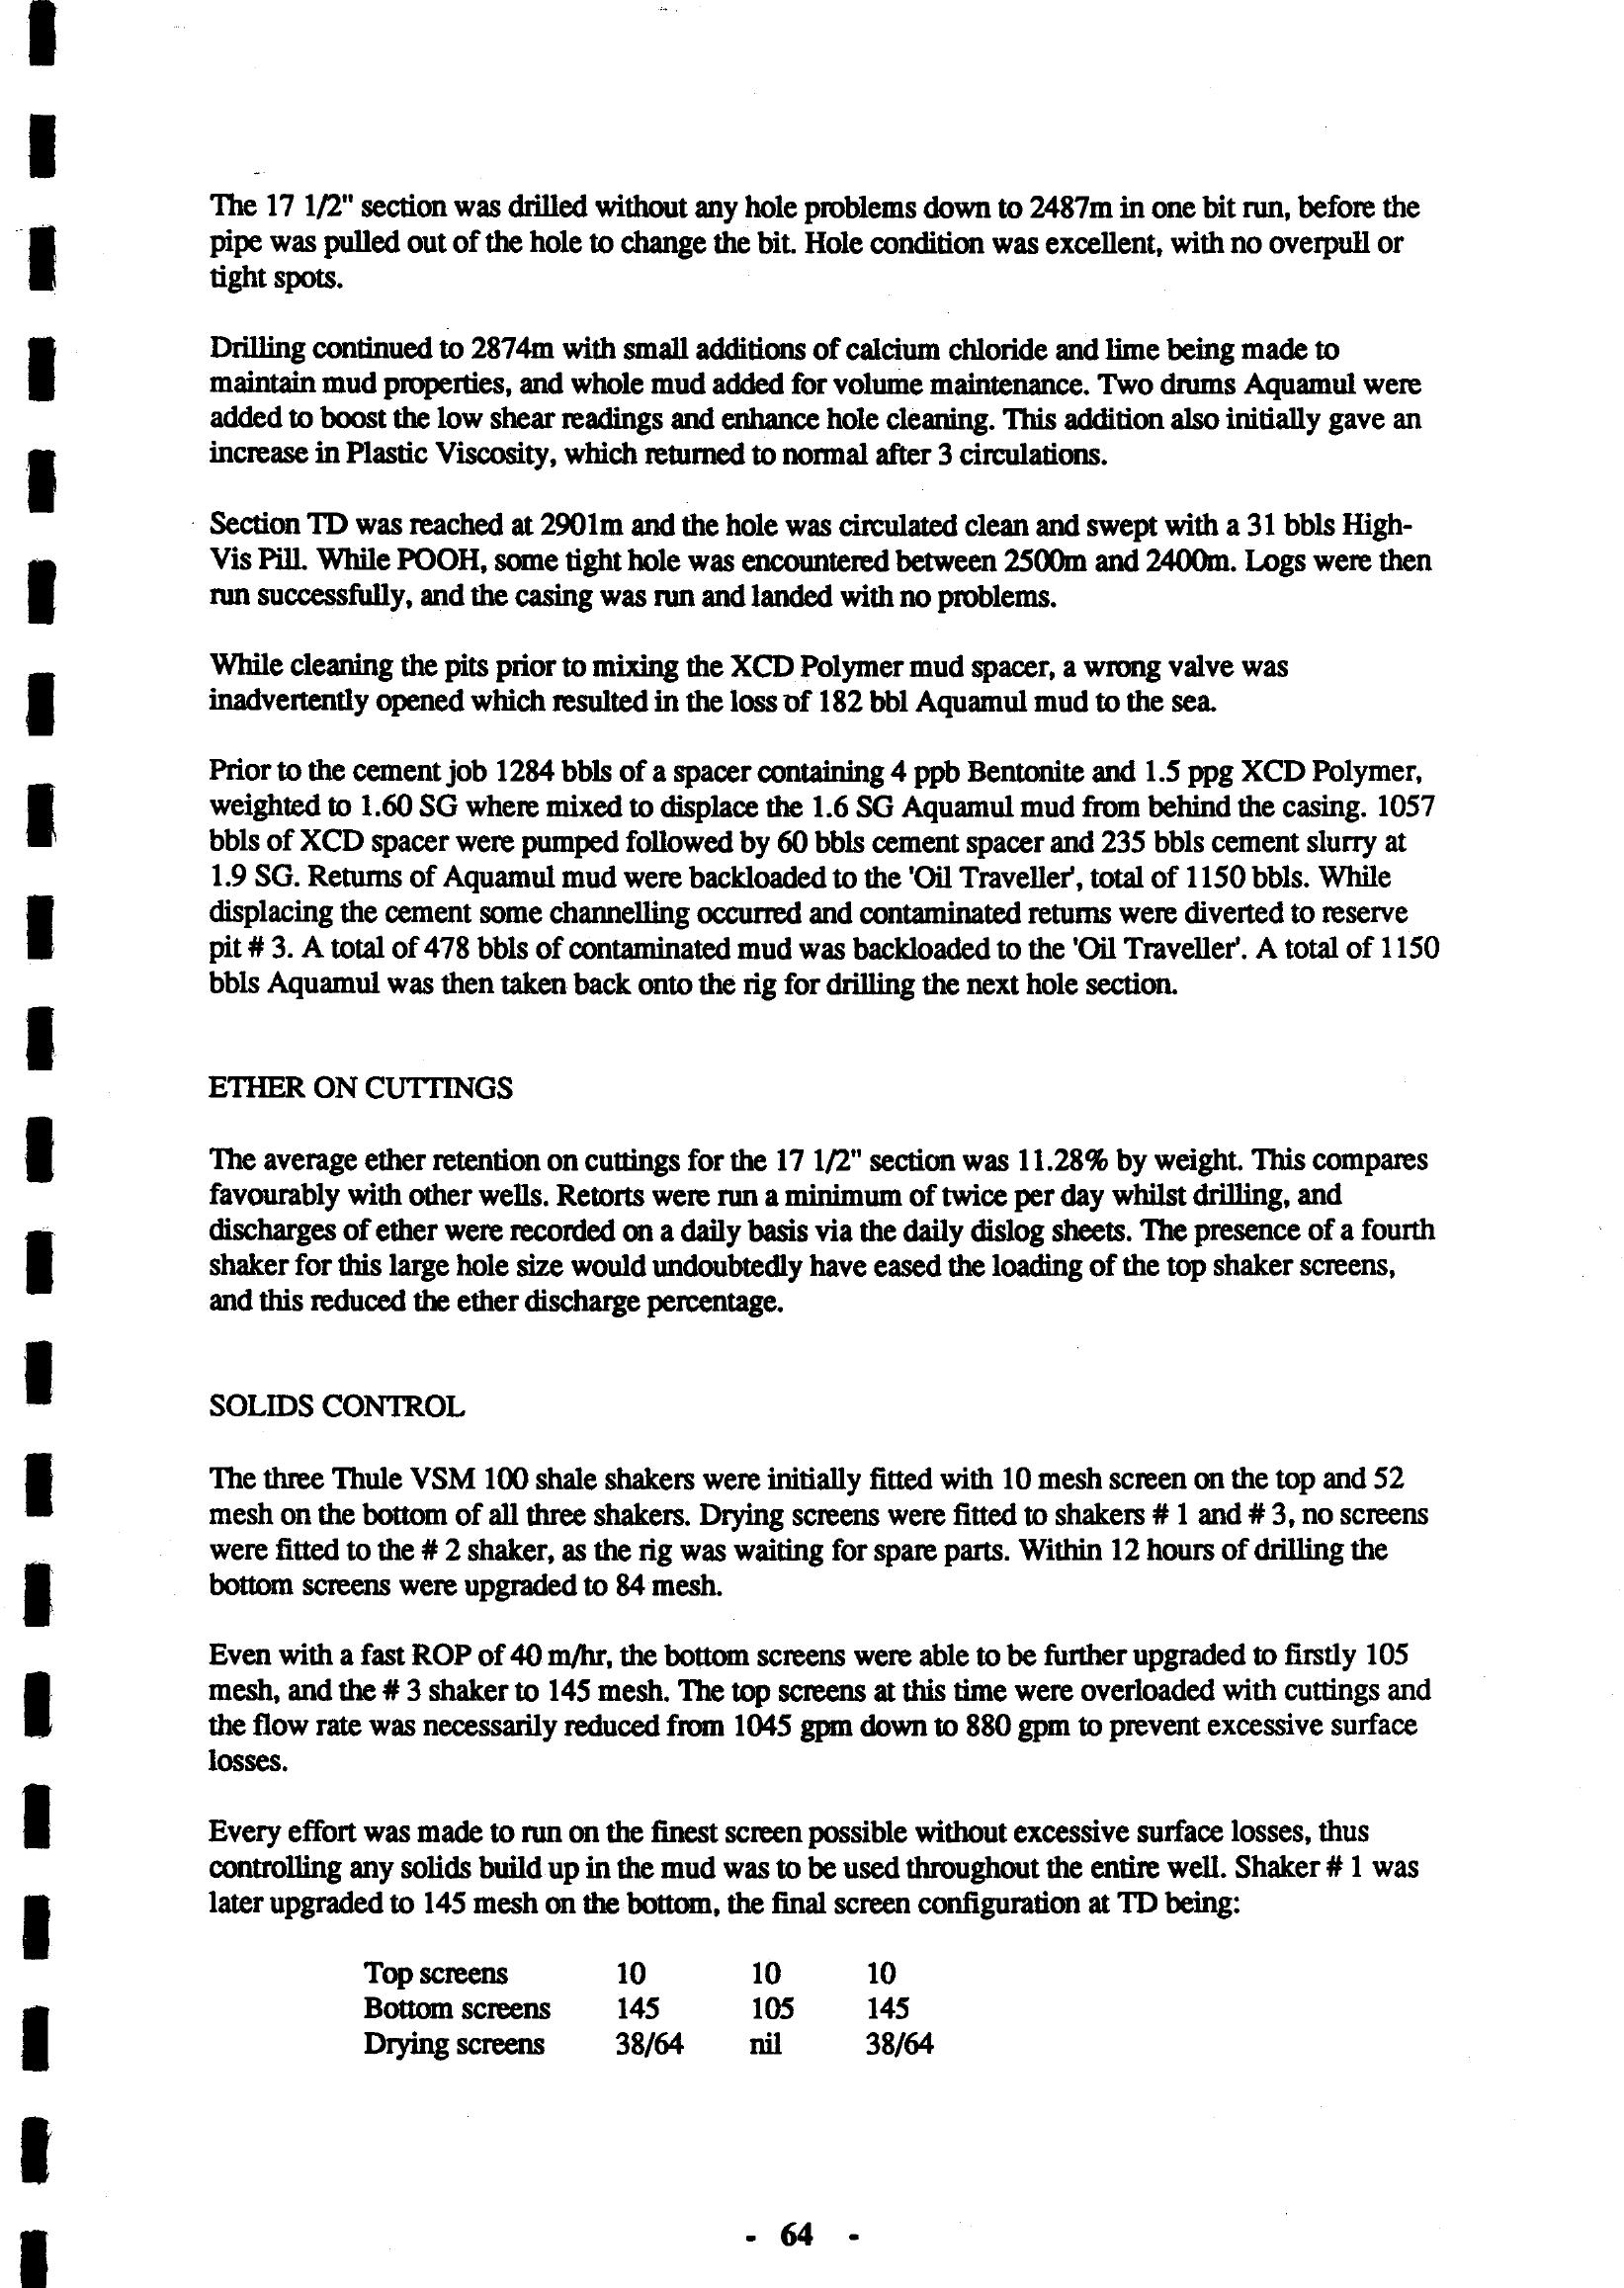text: (167, 172, 1487, 2107)
